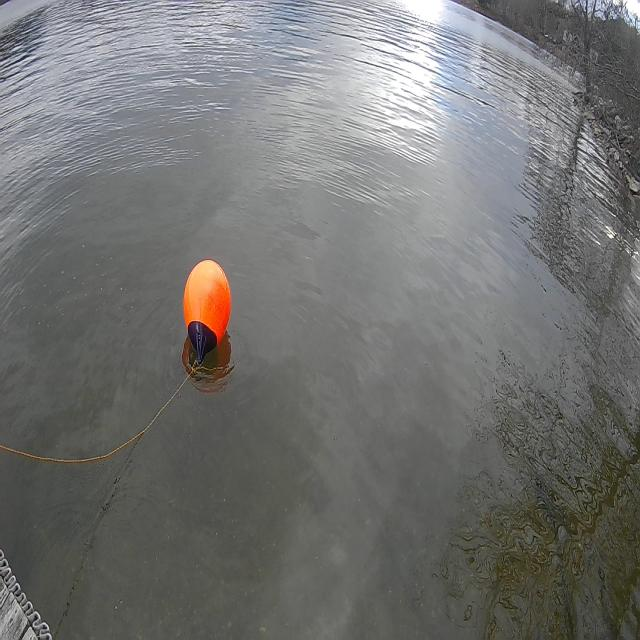Buoy: (180, 254, 234, 347)
